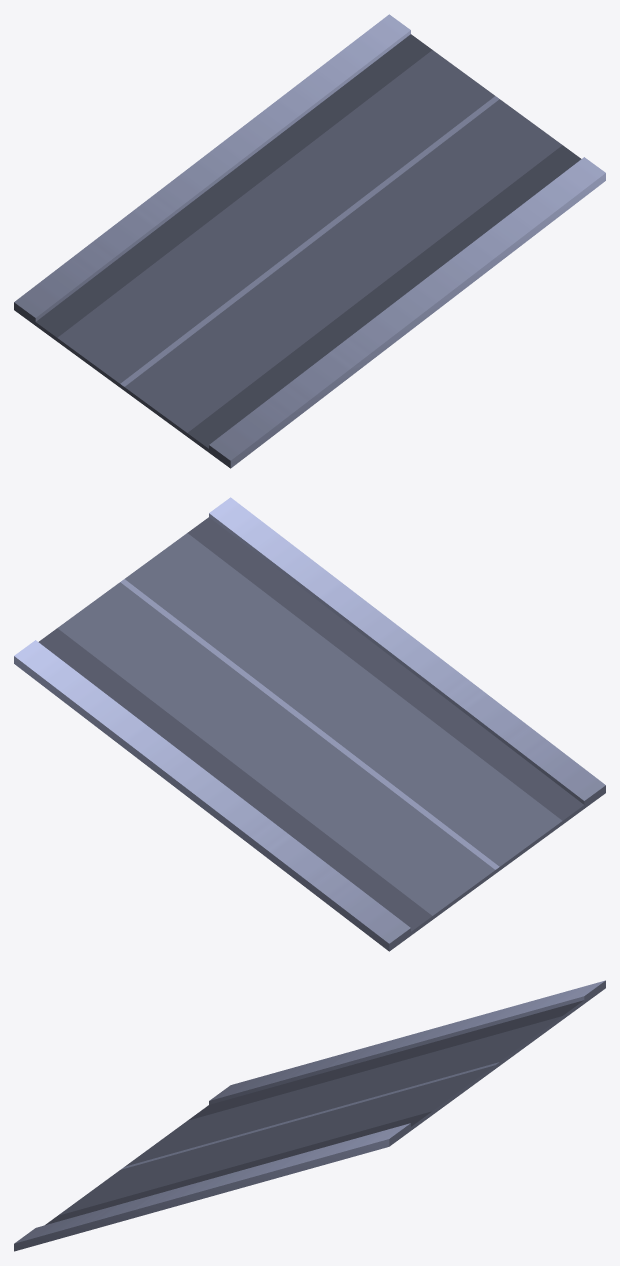
The model's file is road-slant-flat-high.fbx.
The picture shows the model from 3 angles, top to bottom: view 1: azimuth 30°, elevation 25°; view 2: azimuth 150°, elevation 25°; view 3: azimuth 330°, elevation 25°; orthographic projection.
Visible parts, largest first — view 1: road-slant-flat-high; view 2: road-slant-flat-high; view 3: road-slant-flat-high.
Part boxes in pixels (x1,y1,x2,y2): road-slant-flat-high: [14, 14, 605, 468]; road-slant-flat-high: [14, 497, 605, 951]; road-slant-flat-high: [14, 980, 605, 1251].
Bounding box in the file's own units: 100 × 52 × 100.
